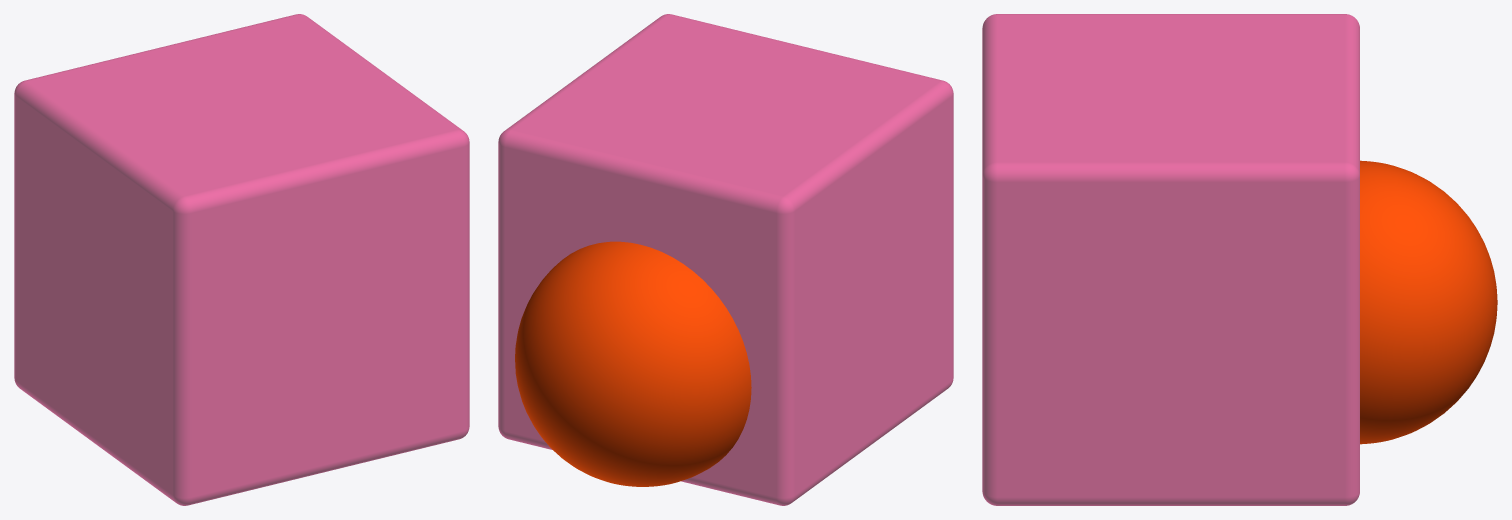
The picture shows the model from 3 angles, left to right: view 1: azimuth 30°, elevation 25°; view 2: azimuth 150°, elevation 25°; view 3: azimuth 270°, elevation 25°; orthographic projection. The views are drawn at different scales.
Visible parts, largest first — view 1: Merged Objects 1; view 2: Merged Objects 1, Sphere; view 3: Merged Objects 1, Sphere.
Boxes of the visible parts, <box> form: Merged Objects 1: <box>14,14,469,505</box>; Merged Objects 1: <box>498,14,953,505</box>; Sphere: <box>515,241,751,486</box>; Merged Objects 1: <box>982,14,1359,505</box>; Sphere: <box>1360,160,1497,444</box>.
Bounding box in the file's own units: 0.133 × 0.133 × 0.1815.
